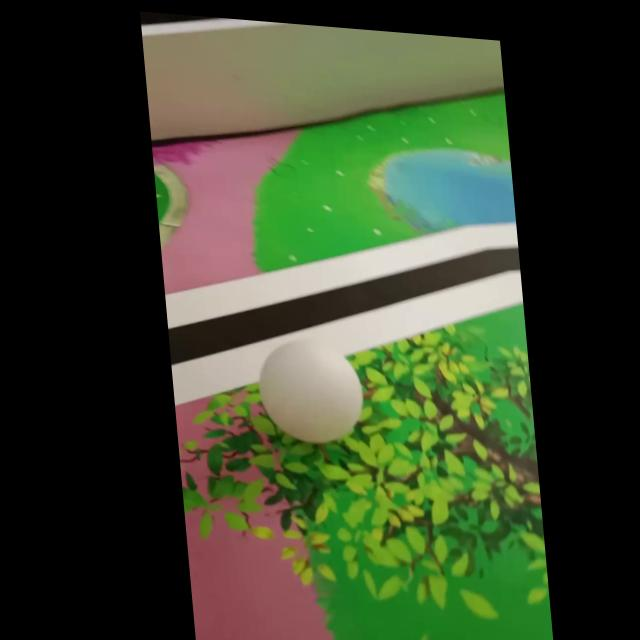white ball: (254, 333, 368, 448)
